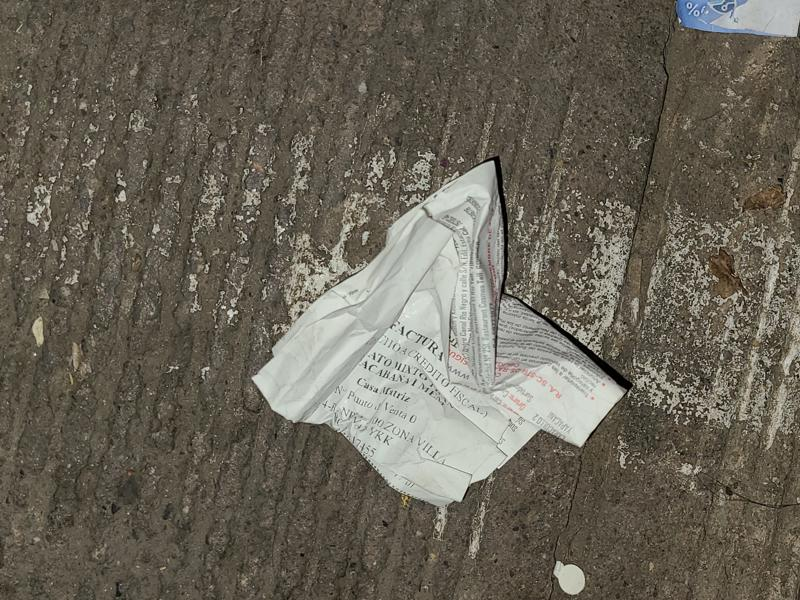papel: (251, 158, 630, 509)
